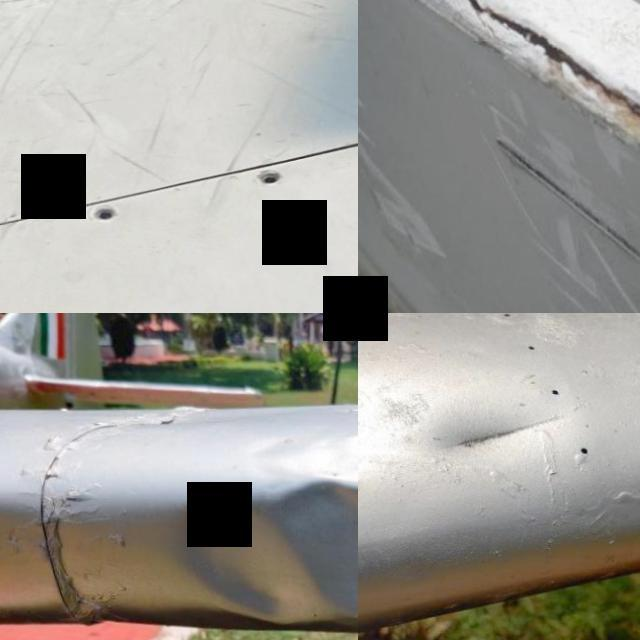Crack: (453, 0, 640, 124), (490, 131, 640, 262)
Dent: (133, 395, 358, 640), (424, 360, 571, 482)
Missing_Fastener: (76, 200, 120, 229), (246, 167, 292, 185)
